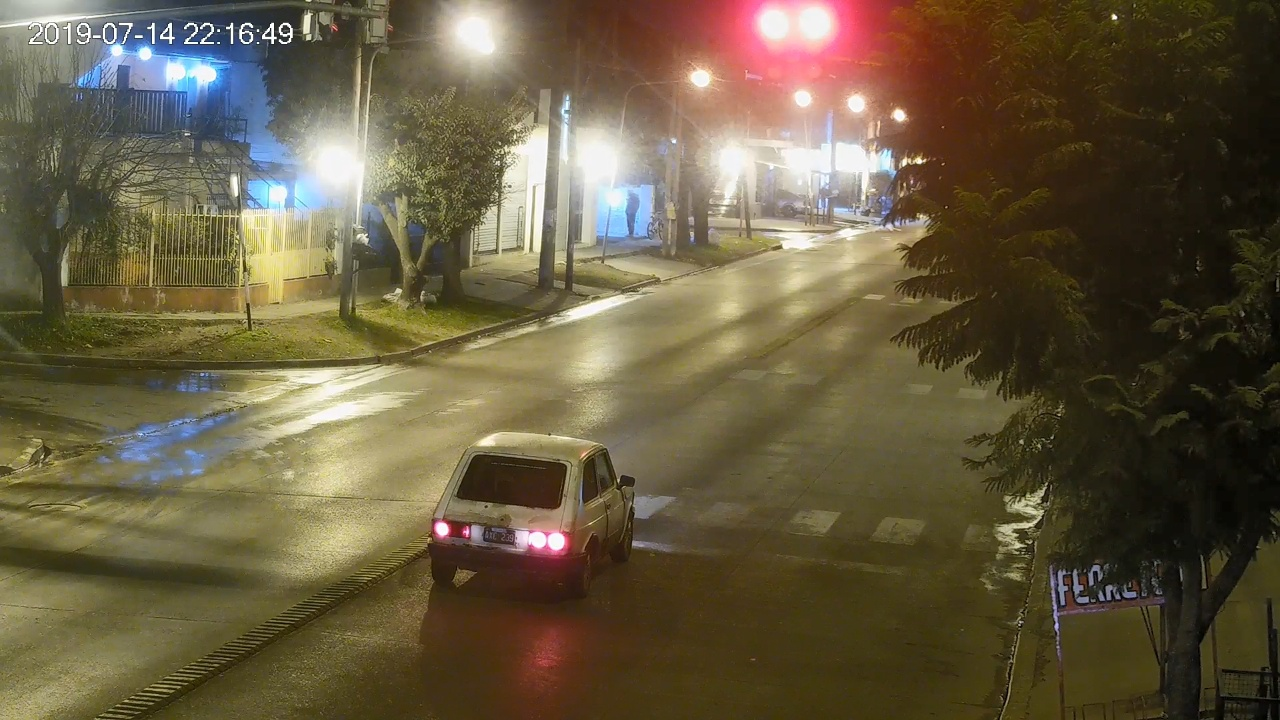car: (427, 432, 636, 598)
traffic light: (805, 9, 829, 80), (765, 8, 787, 78)
